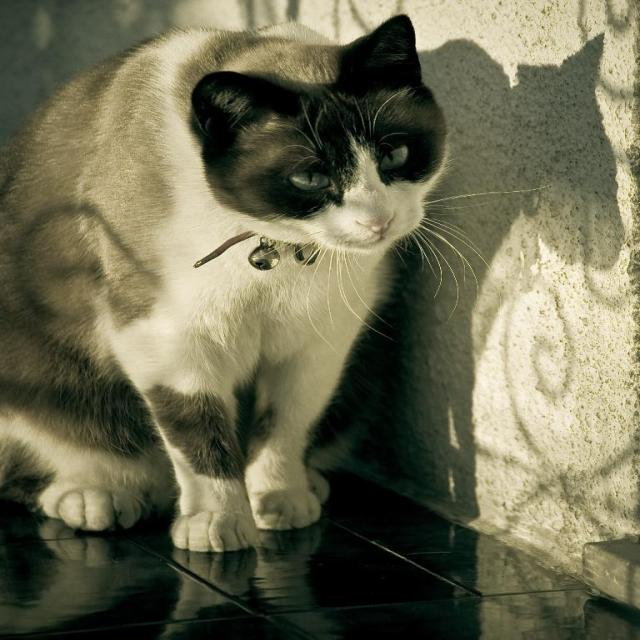Cat: (0, 10, 554, 550)
